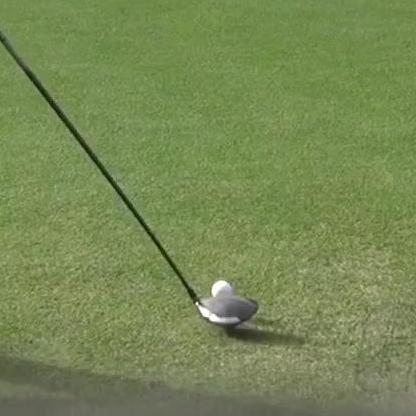golfball: (208, 277, 230, 300)
